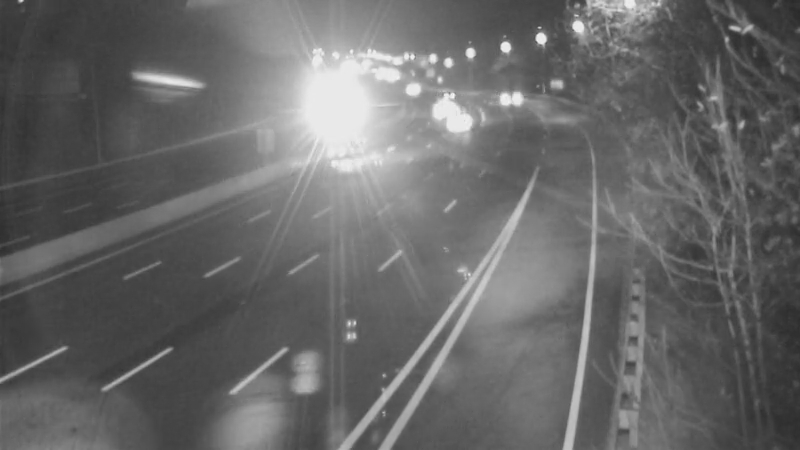vehicle: (311, 120, 391, 200), (390, 63, 440, 113), (425, 68, 475, 118), (483, 72, 533, 122), (416, 85, 466, 135), (436, 102, 486, 152), (304, 99, 354, 149)
